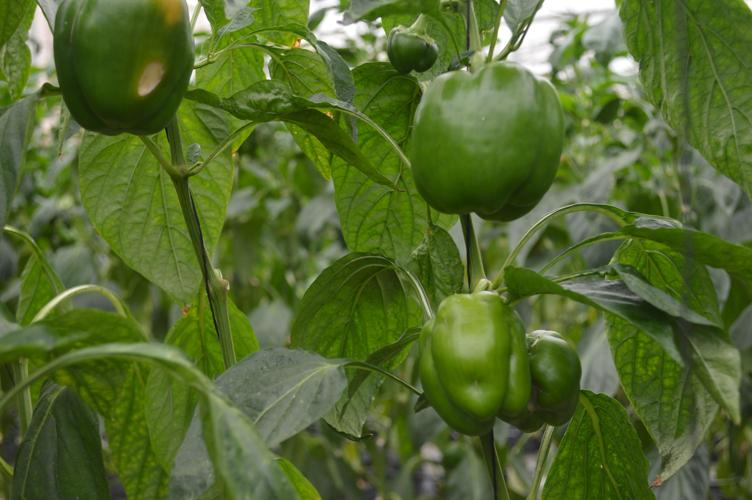BellPepper: (403, 63, 566, 219), (54, 4, 188, 135), (416, 294, 527, 432), (505, 329, 575, 429), (382, 32, 435, 73)
